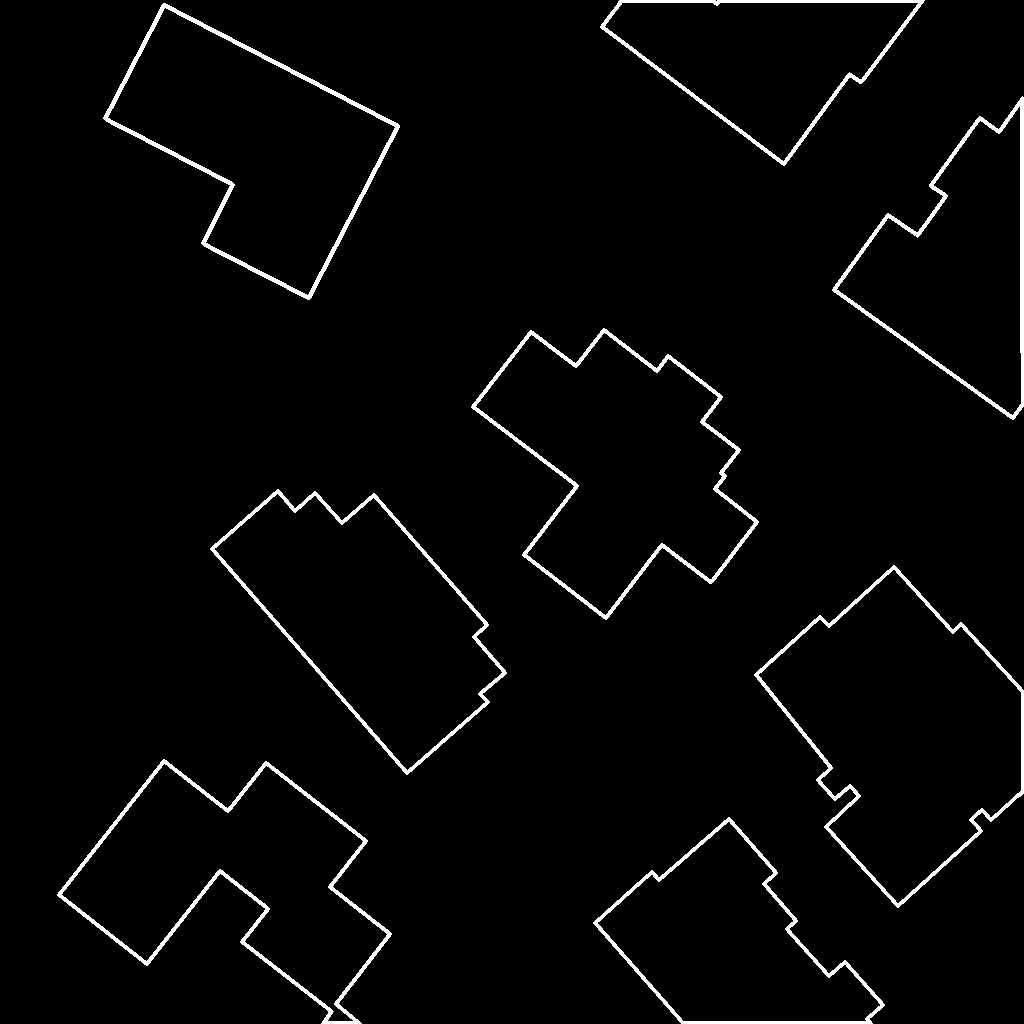building: (756, 567, 1024, 907), (59, 761, 391, 1024), (105, 5, 399, 299), (212, 491, 506, 774), (473, 330, 758, 619), (834, 98, 1024, 419), (595, 819, 884, 1024), (602, 0, 924, 165)
